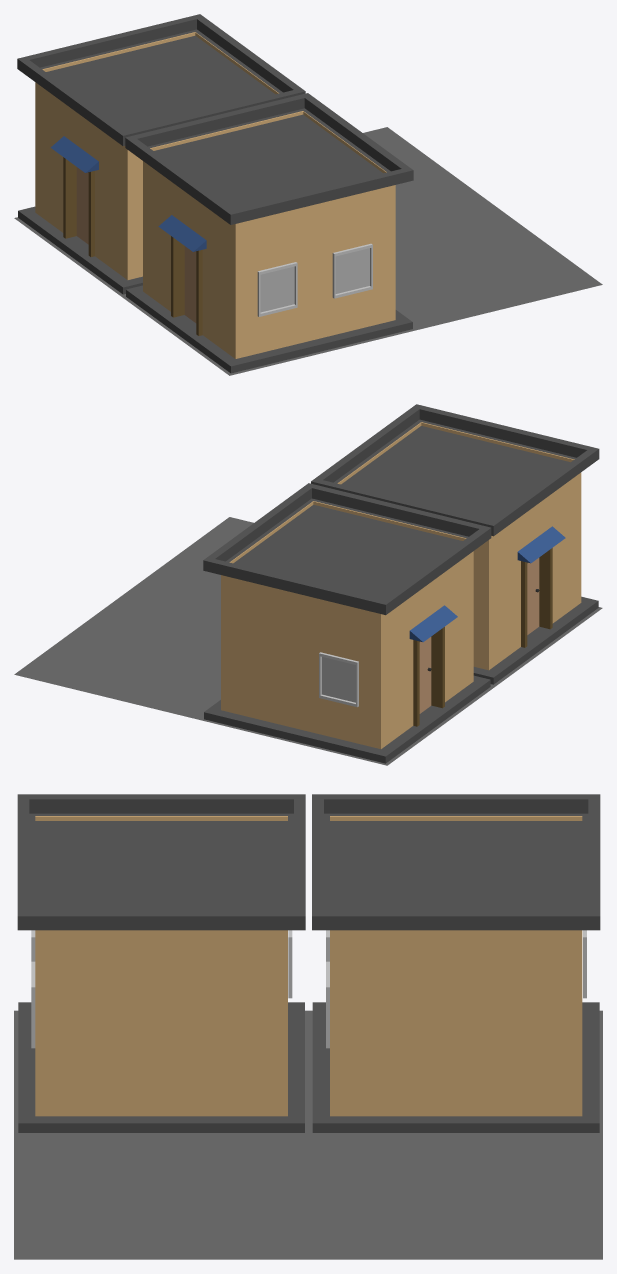
Rendered from house.gltf.
The picture shows the model from 3 angles, top to bottom: view 1: azimuth 30°, elevation 25°; view 2: azimuth 150°, elevation 25°; view 3: azimuth 270°, elevation 25°; orthographic projection. The views are drawn at different scales.
Visible parts, largest first — view 1: Haus.001, Haus; view 2: Haus, Haus.001; view 3: Haus, Haus.001.
Part boxes in pixels (left/top/right/bottom): Haus.001: left=125, top=93, right=413, bottom=373; Haus: left=14, top=14, right=602, bottom=375; Haus: left=14, top=483, right=602, bottom=765; Haus.001: left=311, top=404, right=599, bottom=684; Haus: left=14, top=794, right=602, bottom=1259; Haus.001: left=17, top=794, right=305, bottom=1132.
Size of the model in its own units: 20 by 8.17 by 20.
